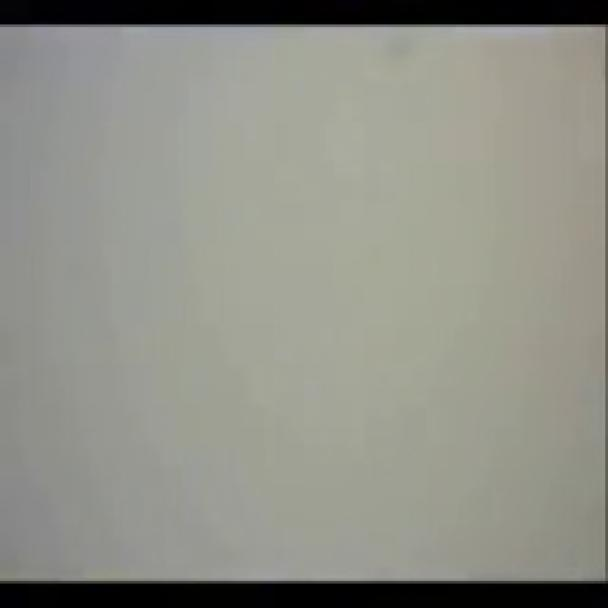smoke: (0, 25, 580, 564)
